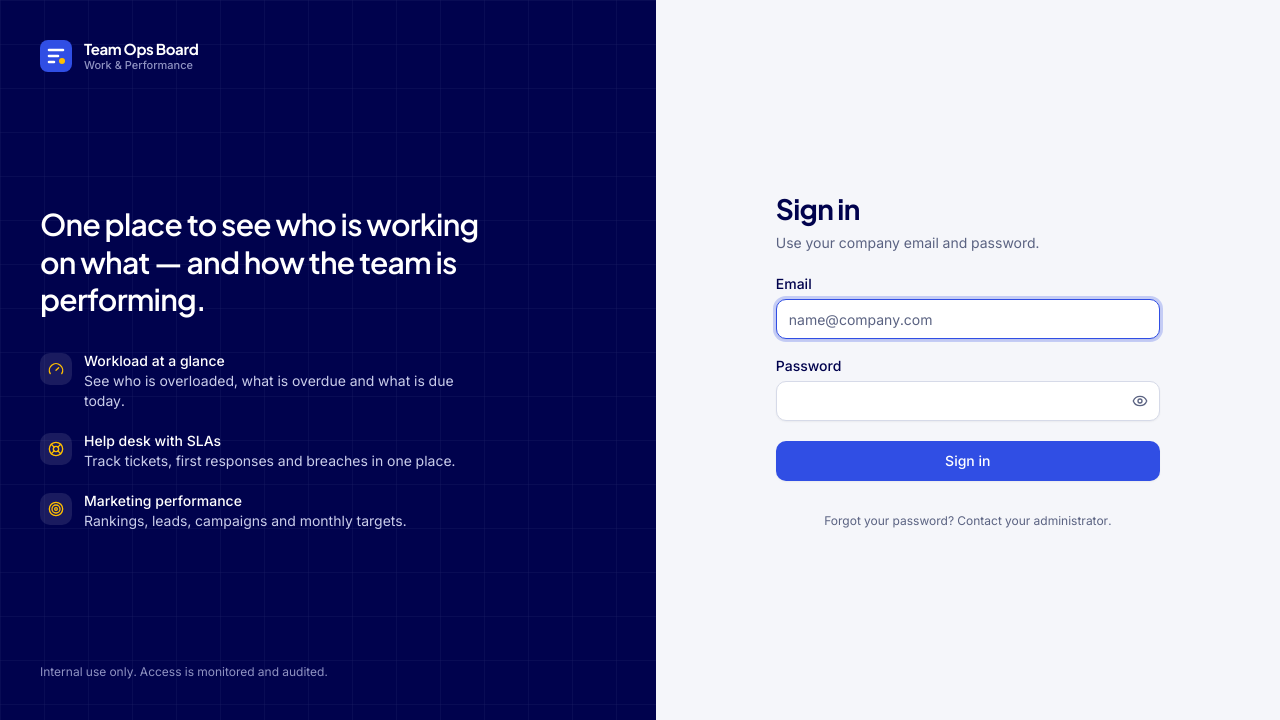
Scenario: LoginPage › rejects a malformed email
Type "not-an-email" into the field labelled "Email". click: [968, 319]
box: left=776, top=299, right=1160, bottom=339
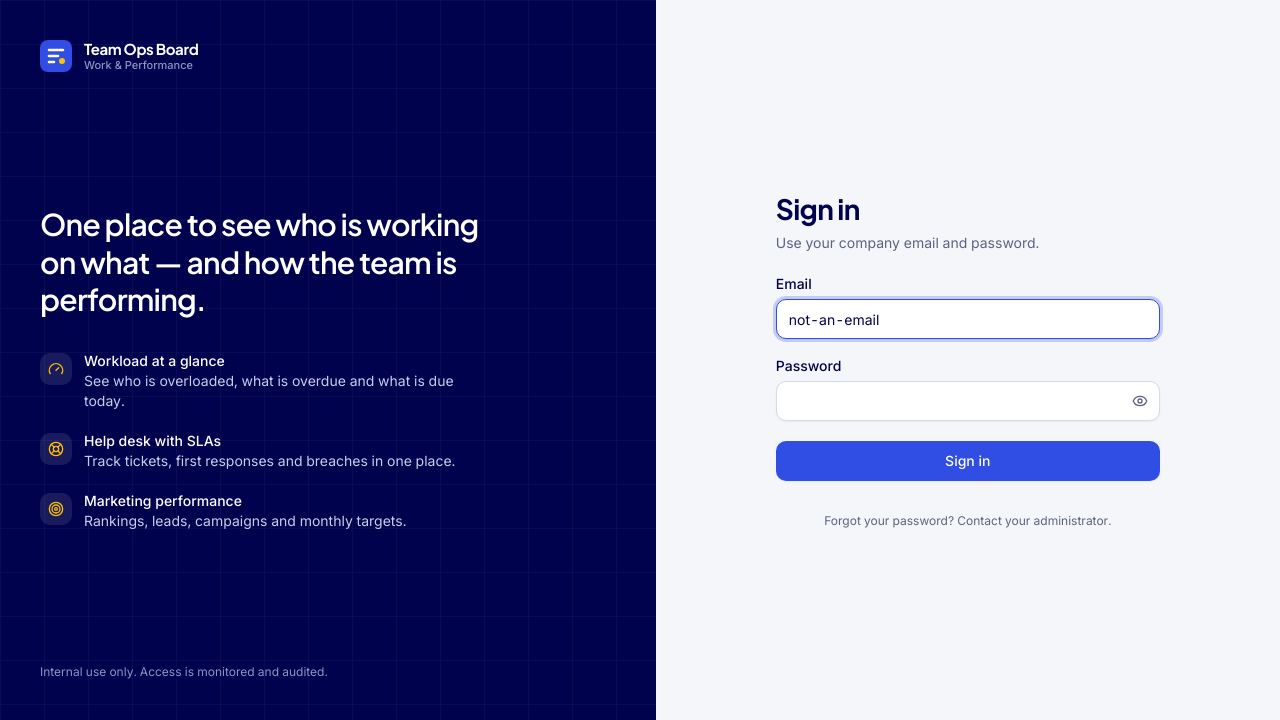
Type "secret" into the password field labelled "Password". click: [968, 401]
box: left=776, top=381, right=1160, bottom=421
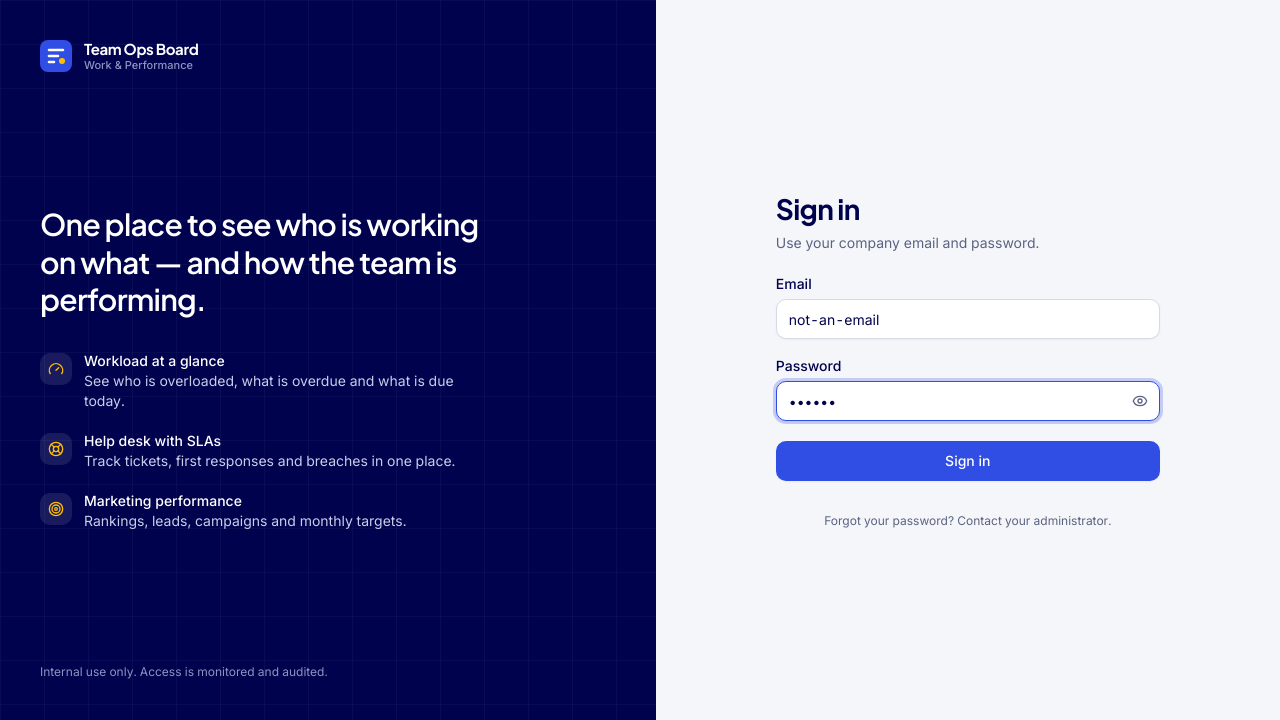
Click the button "Sign in". click: [968, 461]
box: left=776, top=441, right=1160, bottom=481
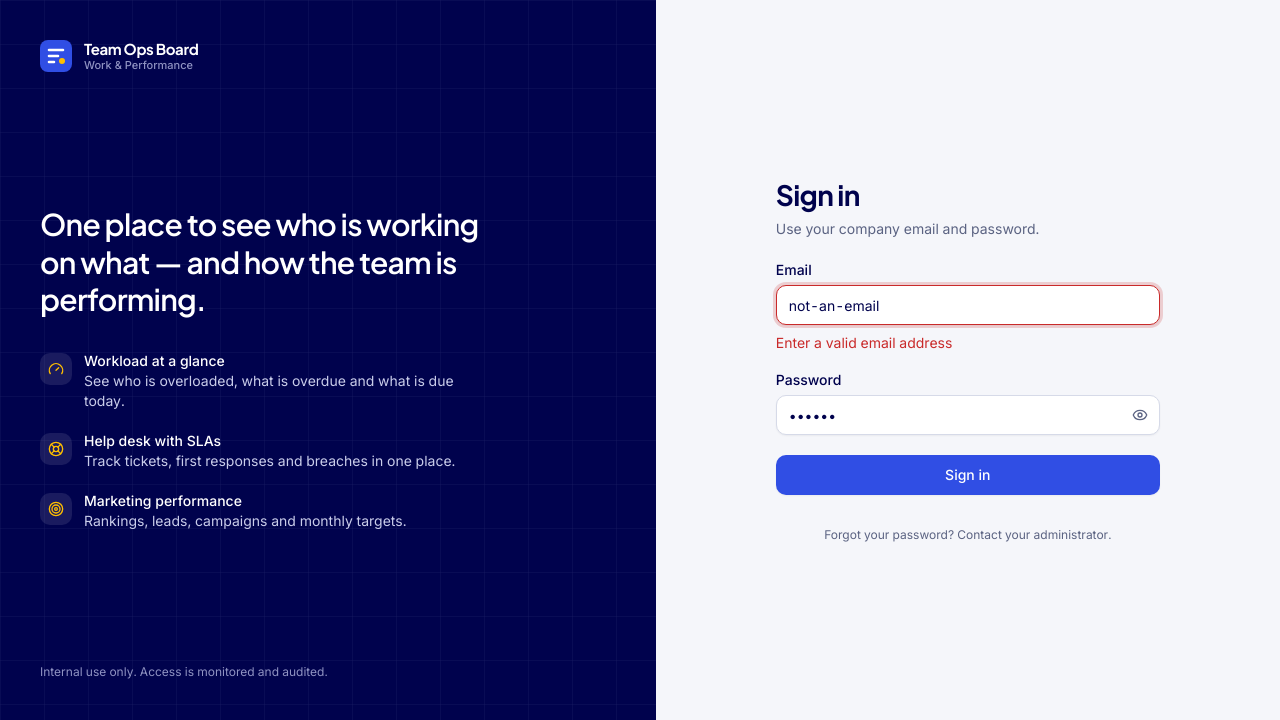
Expected: the text "Enter a valid email address" is shown, left=776, top=334, right=952, bottom=351
